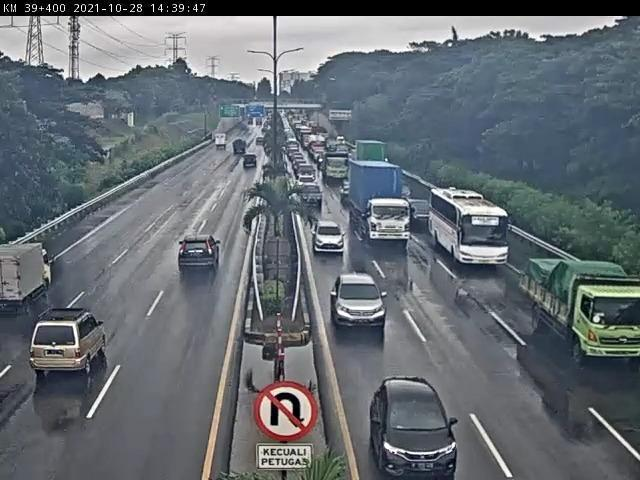bus: (427, 180, 515, 271)
car: (362, 373, 466, 480), (27, 302, 111, 381), (328, 271, 391, 336), (172, 226, 224, 280), (309, 217, 347, 257), (402, 195, 433, 229), (300, 184, 327, 212), (226, 141, 248, 163), (240, 154, 260, 174), (298, 174, 320, 192), (297, 168, 319, 183), (255, 136, 269, 151)
truck: (523, 254, 640, 368), (348, 158, 415, 246), (1, 237, 57, 312), (355, 134, 392, 166), (318, 152, 352, 184), (211, 131, 229, 153)
